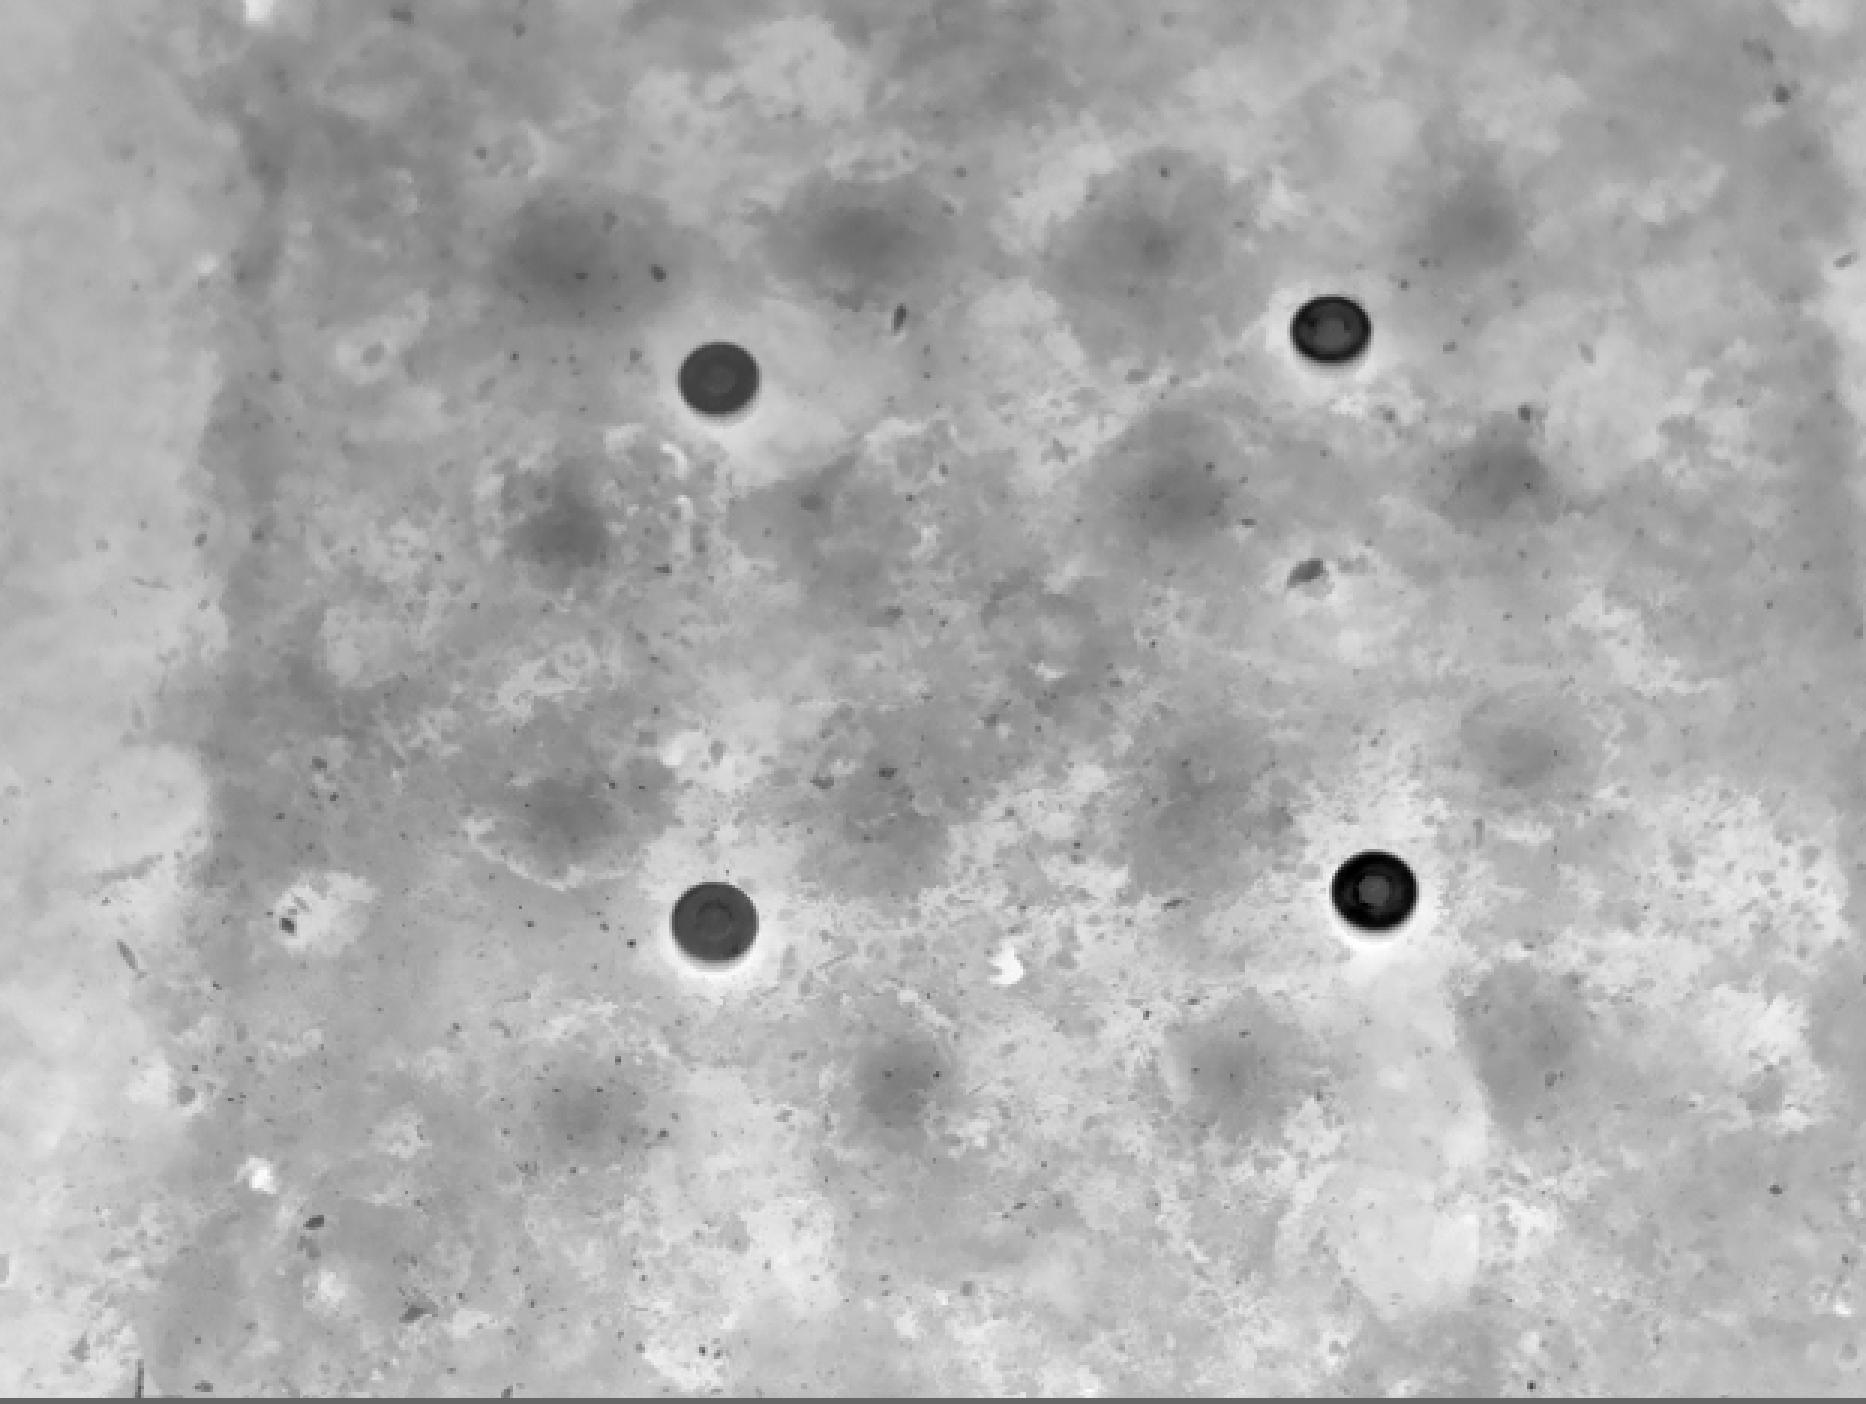mines-gjV8: (679, 877, 771, 965), (679, 324, 760, 419), (1292, 295, 1384, 369), (1339, 849, 1412, 926)
